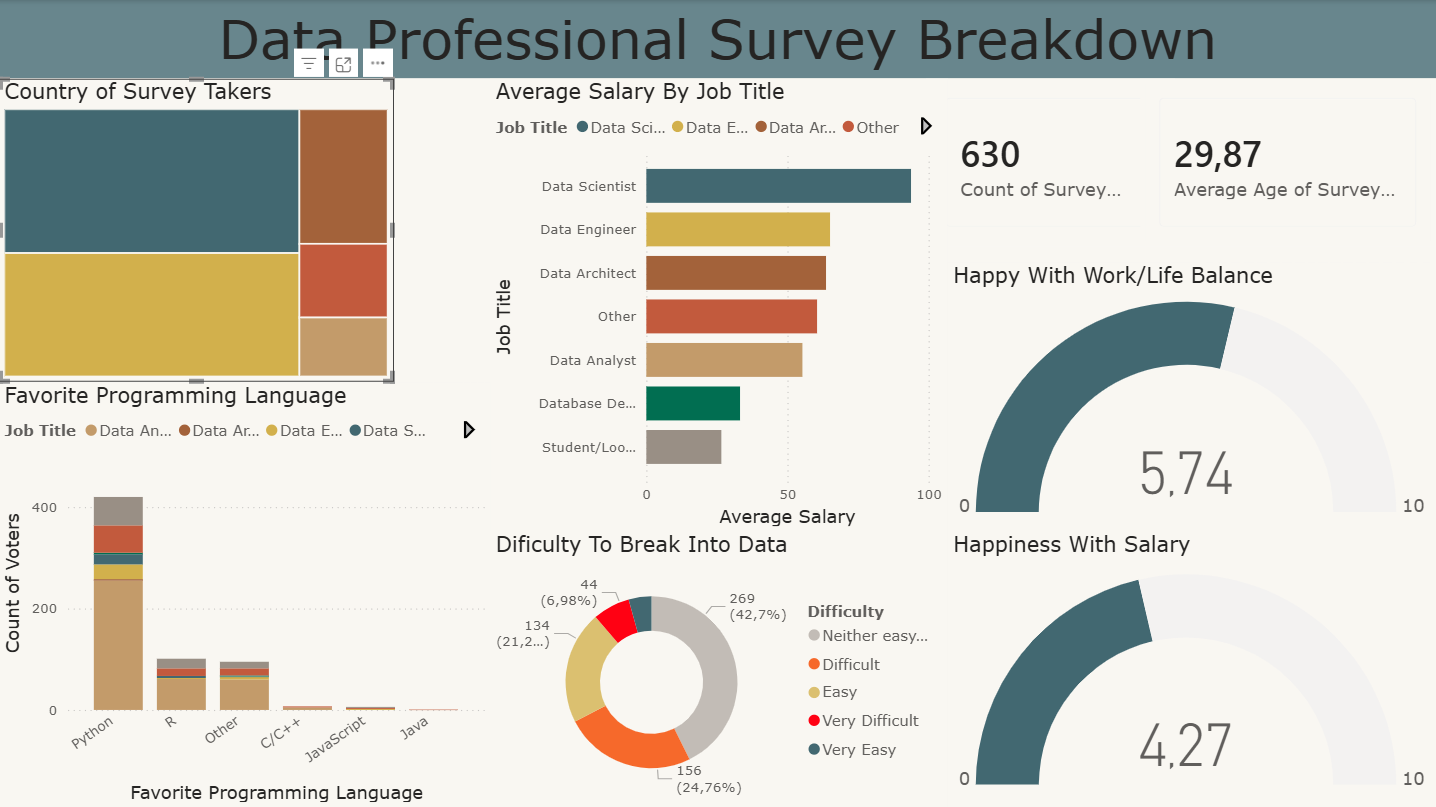

Layout of this report page (visuals, bound fields, positions):
{"tool":"powerbi","page":{"name":"Page 1","canvas":[1280,720],"ordinal":0},"visuals":[{"type":"textbox","box":[0,0,1280.3,70],"z":0},{"type":"cardVisual","fields":{"Data":["Count(Data Professional Survey.Unique ID)"]},"box":[826.1,70,220.9,149.6],"z":1000},{"type":"cardVisual","fields":{"Data":["Avg(Data Professional Survey.Q10 - Current Age)"]},"box":[1016.8,70,263.5,149.6],"z":2000},{"type":"barChart","title":"Average Salary By Job Title","fields":{"Category":["Data Professional Survey.Q1 - Which Title Best Fits your Current Role?.1"],"Y":["Avg(Data Professional Survey.Average Salary)"],"Series":["Data Professional Survey.Q1 - Which Title Best Fits your Current Role?.1"]},"box":[437.7,70,407.5,403.4],"z":3000},{"type":"columnChart","title":"Favorite Programming Language","fields":{"Category":["Data Professional Survey.Q5 - Favorite Programming Language.1"],"Y":["CountNonNull(Data Professional Survey.Unique ID)"],"Series":["Data Professional Survey.Q1 - Which Title Best Fits your Current Role?.1"]},"box":[0,340.3,437.7,378.7],"z":4000},{"type":"treemap","title":"Country of Survey Takers","fields":{"Group":["Data Professional Survey.Q11 - Which Country do you live in?.1"],"Values":["CountNonNull(Data Professional Survey.Q11 - Which Country do you live in?.1)"]},"box":[0,70,351.3,270.3],"z":5000},{"type":"gauge","title":"Happy With Work/Life Balance","fields":{"Y":["Avg(Data Professional Survey.Q6 - How Happy are you in your Current Position with the following? (Work/Life Balance))"],"MinValue":["Min(Data Professional Survey.Q6 - How Happy are you in your Current Position with the following? (Work/Life Balance))1"],"MaxValue":["Max(Data Professional Survey.Q6 - How Happy are you in your Current Position with the following? (Work/Life Balance))2"]},"box":[845.3,233.3,435,240.1],"z":6000},{"type":"gauge","title":"Happiness With Salary","fields":{"Y":["Avg(Data Professional Survey.Q6 - How Happy are you in your Current Position with the following? (Salary))"],"MinValue":["Min(Data Professional Survey.Q6 - How Happy are you in your Current Position with the following? (Salary))"],"MaxValue":["Max(Data Professional Survey.Q6 - How Happy are you in your Current Position with the following? (Salary))"]},"box":[845.3,473.4,435,247],"z":7000},{"type":"donutChart","title":"Dificulty To Break Into Data","fields":{"Category":["Data Professional Survey.Q7 - How difficult was it for you to break into Data?"],"Y":["CountNonNull(Data Professional Survey.Q7 - How difficult was it for you to break into Data?)"]},"box":[437.7,473.4,407.5,247],"z":8000}]}

Visuals, with their boxes in screenshot pixels (x1, y1, x2, y2), scaled from the page's 1280x720 canvas onto the 1436x807 screenshot:
textbox: BBox(0, 0, 1435, 78)
cardVisual - Count(Data Professional Survey.Unique ID): BBox(927, 78, 1175, 246)
cardVisual - Avg(Data Professional Survey.Q10 - Current Age): BBox(1141, 78, 1435, 246)
"Average Salary By Job Title" barChart: BBox(491, 78, 948, 531)
"Favorite Programming Language" columnChart: BBox(0, 381, 491, 806)
"Country of Survey Takers" treemap: BBox(0, 78, 394, 381)
"Happy With Work/Life Balance" gauge: BBox(948, 261, 1435, 531)
"Happiness With Salary" gauge: BBox(948, 531, 1435, 806)
"Dificulty To Break Into Data" donutChart: BBox(491, 531, 948, 806)
